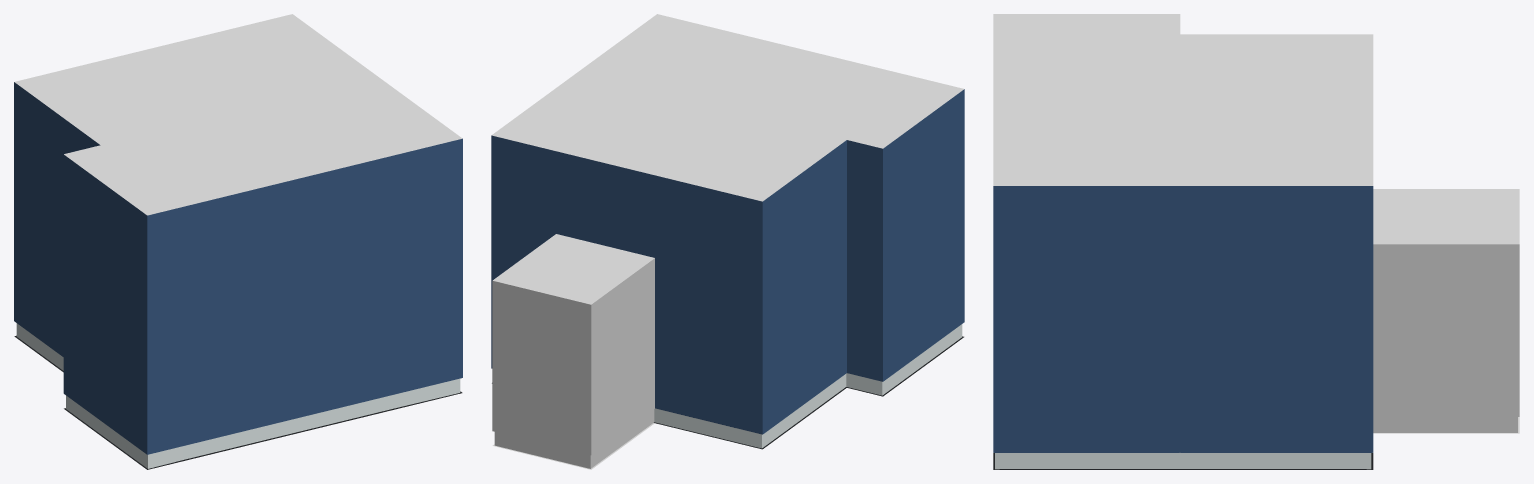
File: room.fbx
3 views of the same model, side by side, from view 1: azimuth 30°, elevation 25°; view 2: azimuth 150°, elevation 25°; view 3: azimuth 270°, elevation 25° (orthographic). The views are drawn at different scales.
Parts seen in each view (by area): view 1: Cube; view 2: Cube; view 3: Cube.
Boxes of the visible parts, <box> form: Cube: <box>14,14,462,469</box>; Cube: <box>491,14,964,469</box>; Cube: <box>993,14,1519,469</box>.
Bounding box in the file's own units: 570 × 439 × 738.
